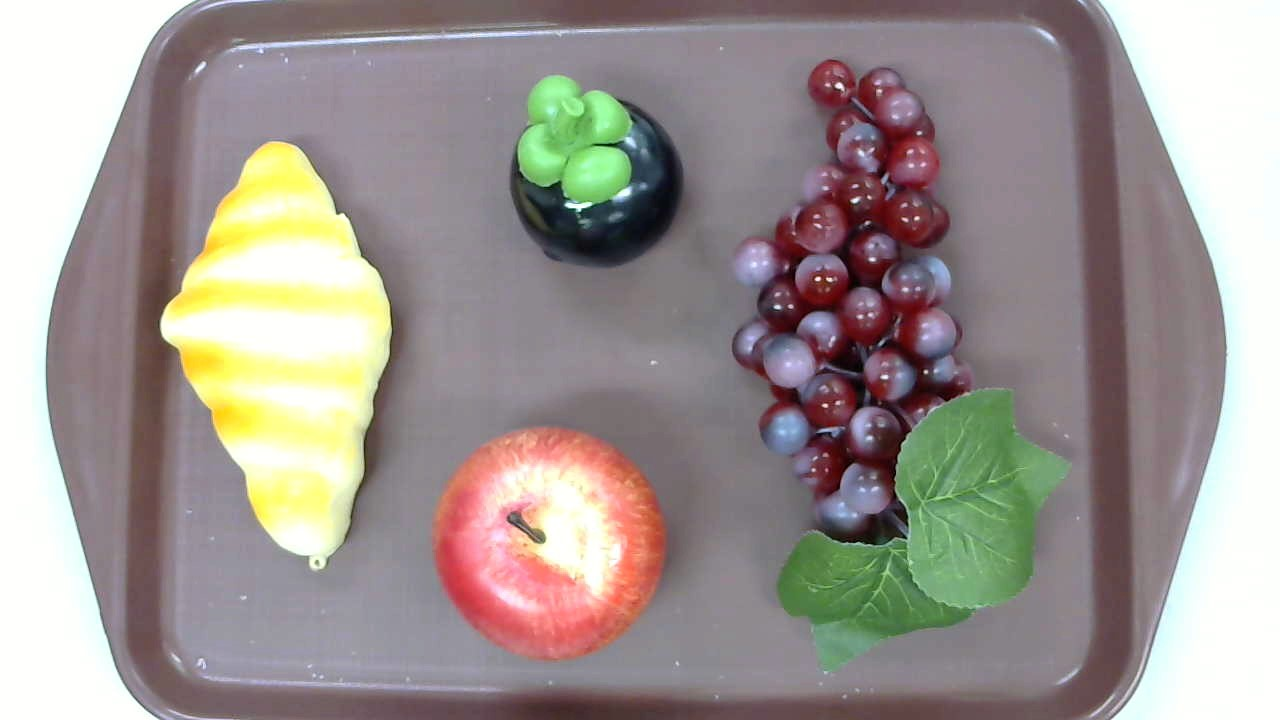croissant: (160, 141, 391, 569)
grape: (729, 59, 1073, 672)
mangosteen: (510, 74, 685, 270)
red apple: (432, 425, 666, 661)
